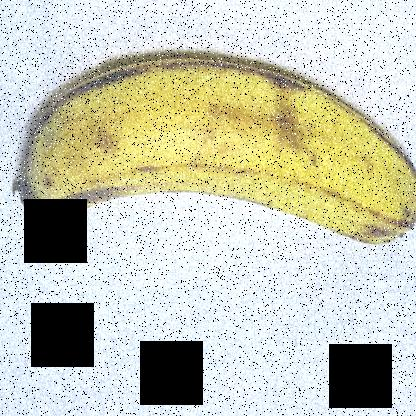ripe: (1, 38, 415, 271)
